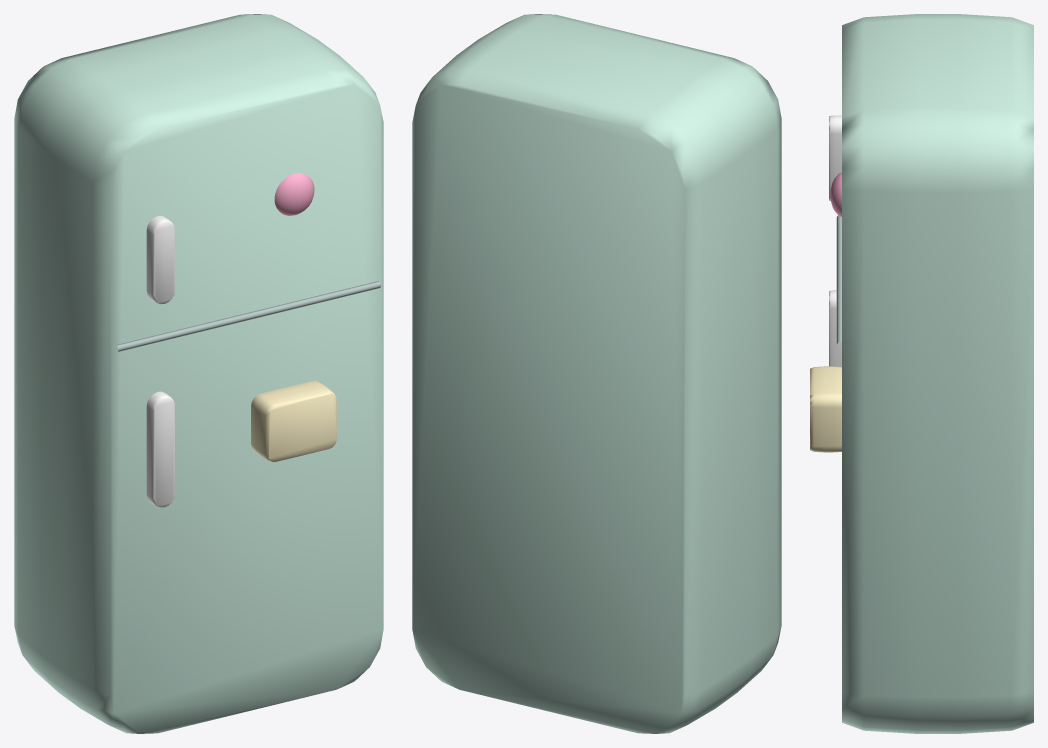
Rendered from decor_3_classic.glb.
The picture shows the model from 3 angles, left to right: view 1: azimuth 30°, elevation 25°; view 2: azimuth 150°, elevation 25°; view 3: azimuth 270°, elevation 25°; orthographic projection.
Visible parts, largest first — view 1: decor_3_classic; view 2: decor_3_classic; view 3: decor_3_classic.
Boxes of the visible parts, left/top/right/bottom form: decor_3_classic: left=14, top=14, right=383, bottom=733; decor_3_classic: left=412, top=14, right=781, bottom=733; decor_3_classic: left=810, top=14, right=1033, bottom=733.
Bounding box in the file's own units: 11.13 × 22.73 × 7.43.
